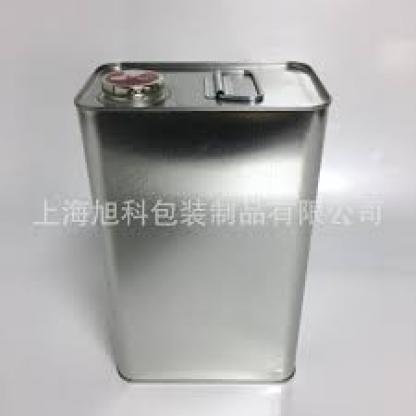METAL: (70, 59, 329, 379)
